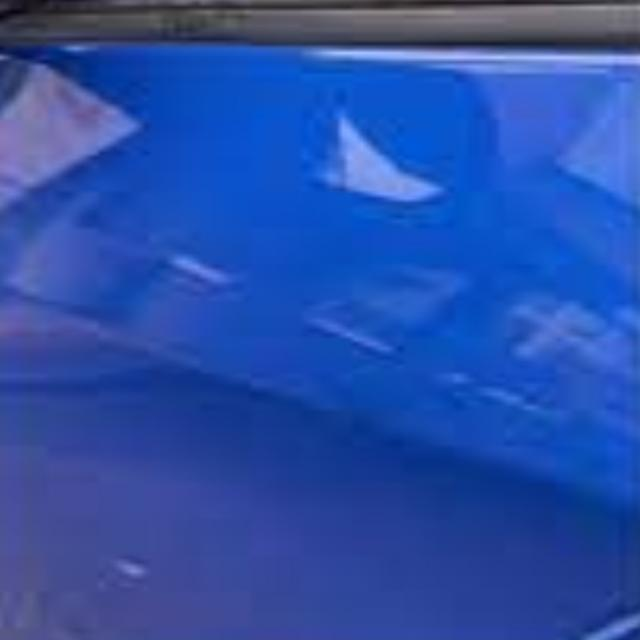dents: (276, 53, 512, 204)
